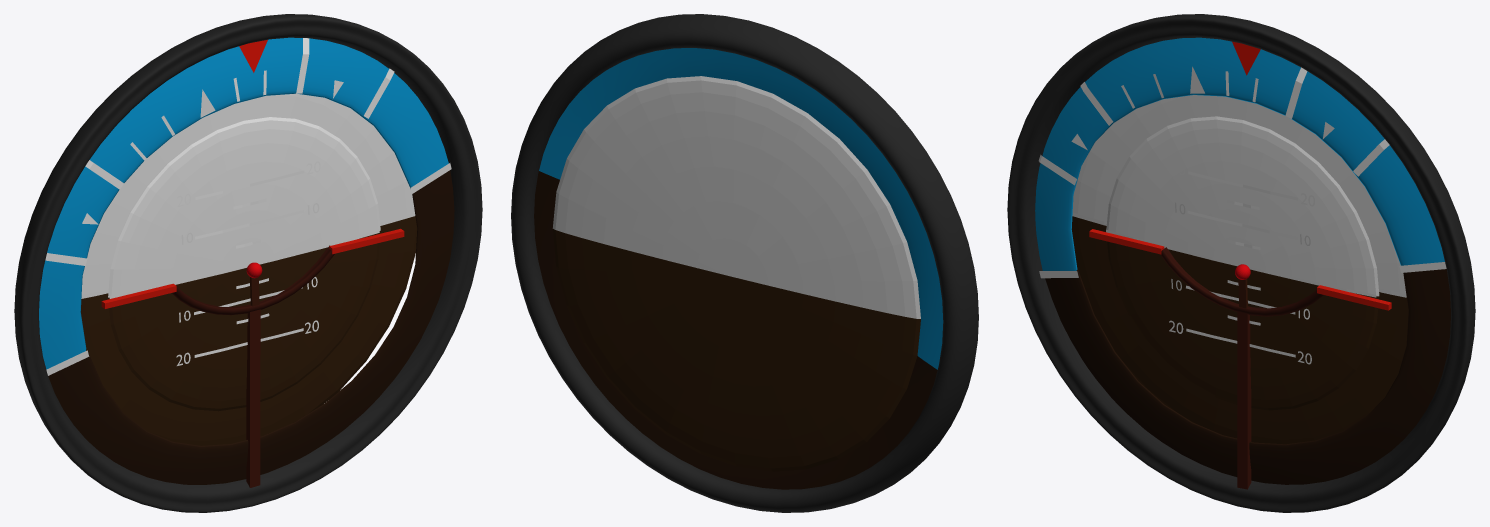
File: авиагоризонт 1.fbx
3 renders of one model, left to right at view 1: azimuth 30°, elevation 25°; view 2: azimuth 150°, elevation 25°; view 3: azimuth 330°, elevation 25°, orthographic.
Parts seen in each view (by area): view 1: Большая рамка, rotate, halfcircle1, Sphere.001, halfcircle2, Sphere.003, Sphere.004, Cube, BezierCurve, Plane, Cube.002, Cube.001; view 2: Sphere.004, Sphere.003, Большая рамка, halfcircle1, halfcircle2; view 3: Большая рамка, rotate, halfcircle1, Sphere.001, halfcircle2, Sphere.003, Sphere.004, Cube, BezierCurve, Plane, Cube.001, Cube.002.
Part boxes in pixels (box(x1,y1,x2,y2)): Большая рамка: box(14, 14, 482, 512); rotate: box(108, 117, 380, 297); halfcircle1: box(39, 37, 448, 369); Sphere.001: box(108, 231, 380, 411); halfcircle2: box(48, 170, 454, 484); Sphere.003: box(80, 216, 417, 445); Sphere.004: box(81, 93, 414, 294); Cube: box(246, 309, 260, 487); BezierCurve: box(172, 245, 334, 315); Plane: box(109, 230, 379, 298); Cube.002: box(101, 283, 176, 308); Cube.001: box(329, 228, 404, 254); Sphere.004: box(552, 76, 920, 318); Sphere.003: box(553, 229, 920, 471); Большая рамка: box(511, 14, 978, 512); halfcircle1: box(539, 48, 943, 369); halfcircle2: box(534, 171, 937, 489); Большая рамка: box(1007, 14, 1475, 512); rotate: box(1106, 116, 1379, 296); halfcircle1: box(1035, 37, 1444, 270); Sphere.001: box(1107, 241, 1379, 410); halfcircle2: box(1045, 268, 1450, 484); Sphere.003: box(1071, 216, 1408, 444); Sphere.004: box(1072, 95, 1406, 293); Cube: box(1237, 311, 1251, 489); BezierCurve: box(1160, 247, 1323, 316); Plane: box(1106, 229, 1376, 297); Cube.001: box(1317, 285, 1391, 310); Cube.002: box(1089, 229, 1164, 254).
Bounding box in the file's own units: 2.09 × 2.09 × 0.1638.
